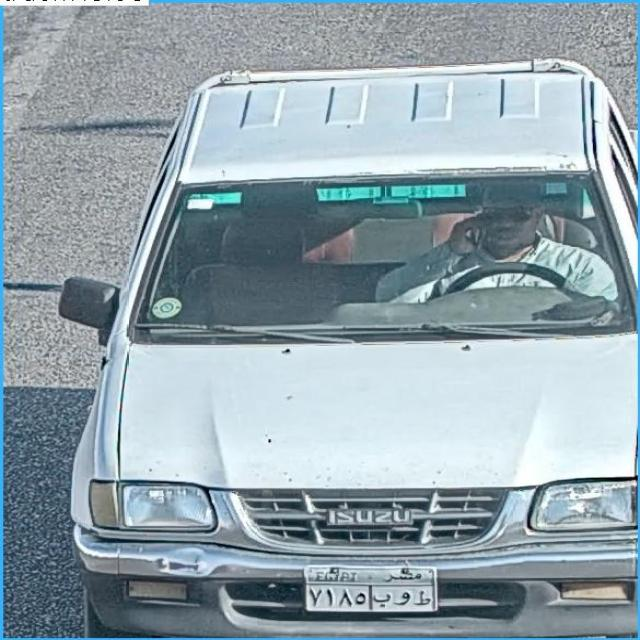No-seat-belt: (462, 173, 636, 325)
